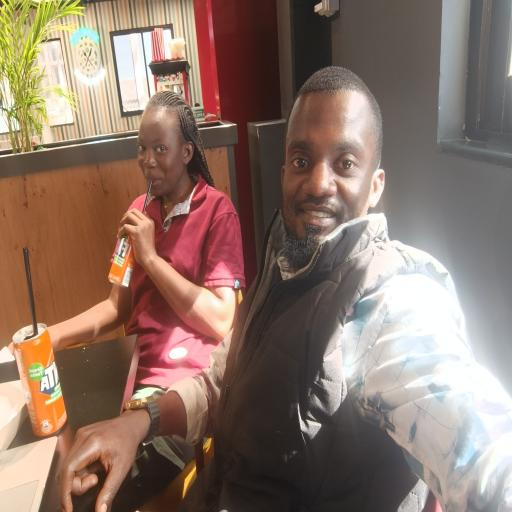MATTHIEU: (276, 63, 394, 272)
